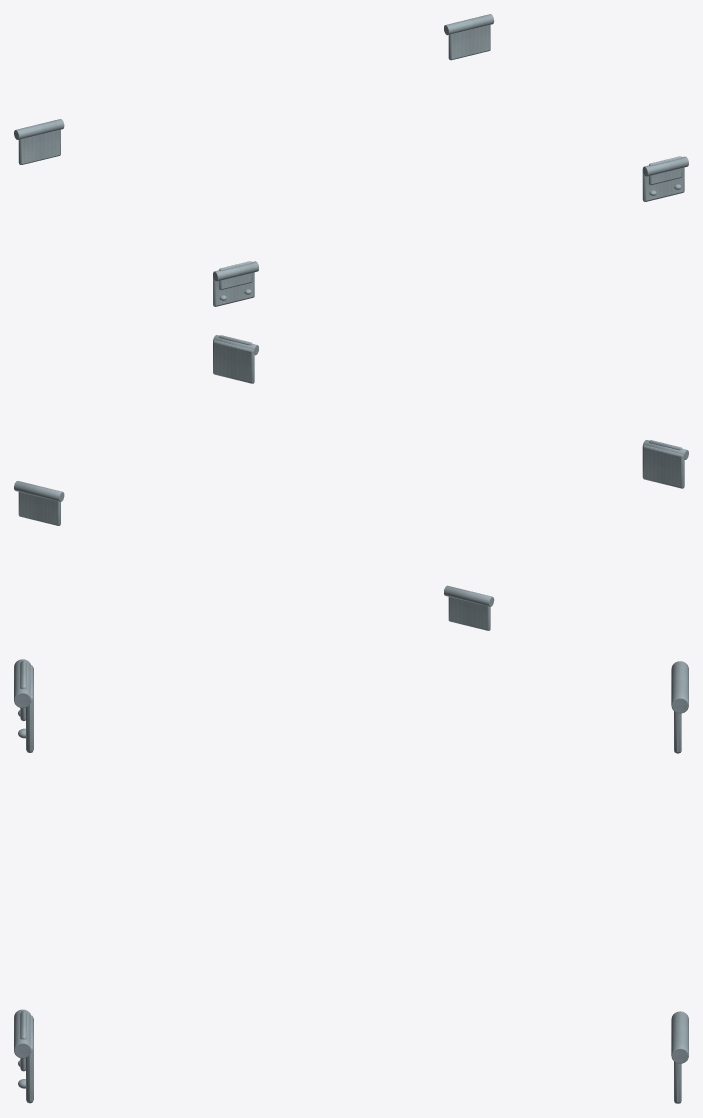
The model's file is 30-real-hinges-and-closing-clasps.fbx.
3 views of the same model, one above another, from view 1: azimuth 30°, elevation 25°; view 2: azimuth 150°, elevation 25°; view 3: azimuth 270°, elevation 25° (orthographic). The views are drawn at different scales.
Parts seen in each view (by area): view 1: real-hinges-and-closing-clasps; view 2: real-hinges-and-closing-clasps; view 3: real-hinges-and-closing-clasps.
Part boxes in pixels (<box>): real-hinges-and-closing-clasps: <box>14,14,688,306</box>; real-hinges-and-closing-clasps: <box>14,335,688,630</box>; real-hinges-and-closing-clasps: <box>14,659,688,1103</box>.
Bounding box in the file's own units: 11500 × 900 × 8470.
1 material, 1 textured.
